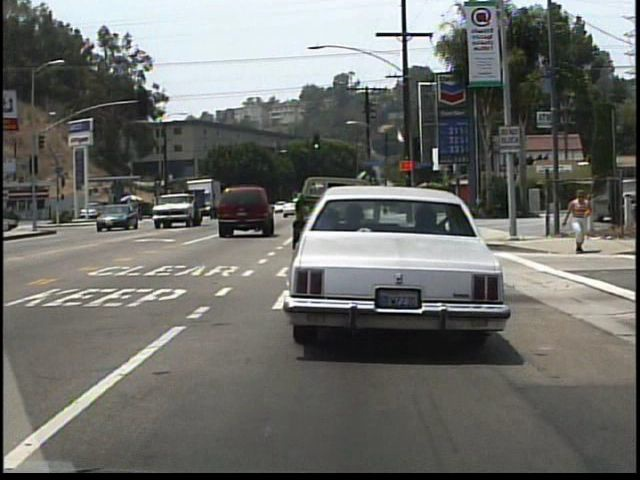person: (568, 186, 590, 253)
